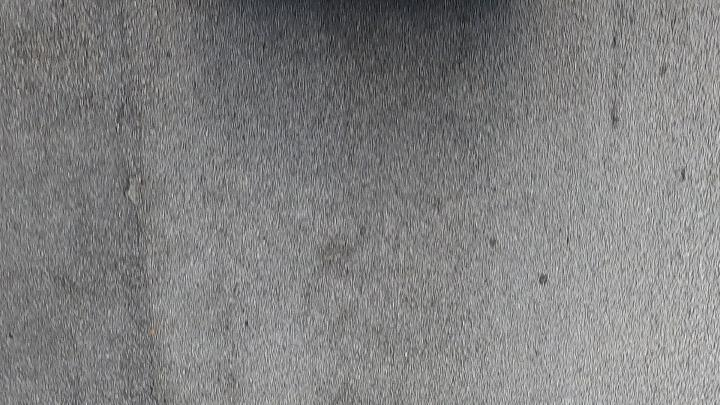Crack: (115, 71, 176, 405), (116, 76, 176, 404)
